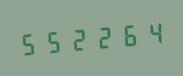five: (17, 26, 40, 60), (41, 24, 64, 58)
four: (138, 16, 161, 49)
six: (114, 18, 137, 51)
two: (66, 22, 89, 56), (90, 20, 113, 54)
